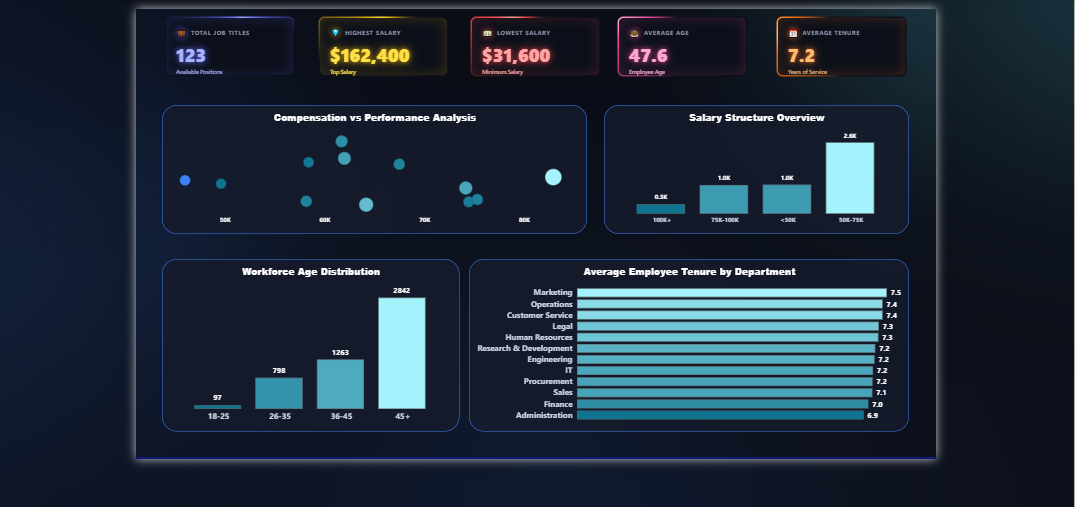

Layout of this report page (visuals, bound fields, positions):
{"tool":"powerbi","page":{"name":"Workforce Analytics","canvas":[1600,900],"ordinal":1},"visuals":[{"type":"htmlContent443BE3AD55E043BF878BED274D3A6855","fields":{"content":["attendance.Average Age KPI"]},"box":[958,10,270,130],"z":0},{"type":"htmlContent443BE3AD55E043BF878BED274D3A6855","fields":{"content":["attendance.Average Tenure KPI"]},"box":[1276,10,270,130],"z":1000},{"type":"htmlContent443BE3AD55E043BF878BED274D3A6855","fields":{"content":["attendance.Highest Salary KPI"]},"box":[360,10,270,130],"z":2000},{"type":"htmlContent443BE3AD55E043BF878BED274D3A6855","fields":{"content":["attendance.Lowest Salary KPI"]},"box":[664,10,270,130],"z":3000},{"type":"htmlContent443BE3AD55E043BF878BED274D3A6855","fields":{"content":["attendance.Job Titles KPI"]},"box":[52,10,270,130],"z":4000},{"type":"clusteredColumnChart","title":"Workforce Age Distribution","fields":{"Category":["employees.Age Group"],"Y":["Measures (2).Total Employees"]},"box":[52.5,500,595,345],"z":5000},{"type":"clusteredColumnChart","title":"Salary Structure Overview","fields":{"Category":["employees.Salary Band"],"Y":["CountNonNull(employees.EmployeeID)"]},"box":[935,192.5,610,257.5],"z":6000},{"type":"scatterChart","title":"Compensation vs Performance Analysis","fields":{"X":["Avg(employees.Salary)"],"Y":["Avg(performance.PerformanceRating)"],"Series":["departments.DepartmentName"],"Size":["Measures (2).Total Employees"],"Category":["departments.DepartmentName"]},"box":[52.5,192.5,850,257.5],"z":7000},{"type":"clusteredBarChart","title":"Average Employee Tenure by Department","fields":{"Category":["departments.DepartmentName"],"Y":["Measures (2).Average Tenure"]},"box":[665,500,880,345],"z":8000}]}

Visuals, with their boxes on the page's 1600x900 design canvas (x1, y1, x2, y2). These are canvas units, not pixel positions in the 1076x507 screenshot, which may show the page scaled, cropped or inside an application window:
htmlContent443BE3AD55E043BF878BED274D3A6855 - attendance.Average Age KPI: bbox=[958, 10, 1228, 140]
htmlContent443BE3AD55E043BF878BED274D3A6855 - attendance.Average Tenure KPI: bbox=[1276, 10, 1546, 140]
htmlContent443BE3AD55E043BF878BED274D3A6855 - attendance.Highest Salary KPI: bbox=[360, 10, 630, 140]
htmlContent443BE3AD55E043BF878BED274D3A6855 - attendance.Lowest Salary KPI: bbox=[664, 10, 934, 140]
htmlContent443BE3AD55E043BF878BED274D3A6855 - attendance.Job Titles KPI: bbox=[52, 10, 322, 140]
"Workforce Age Distribution" clusteredColumnChart: bbox=[52, 500, 648, 845]
"Salary Structure Overview" clusteredColumnChart: bbox=[935, 192, 1545, 450]
"Compensation vs Performance Analysis" scatterChart: bbox=[52, 192, 902, 450]
"Average Employee Tenure by Department" clusteredBarChart: bbox=[665, 500, 1545, 845]
